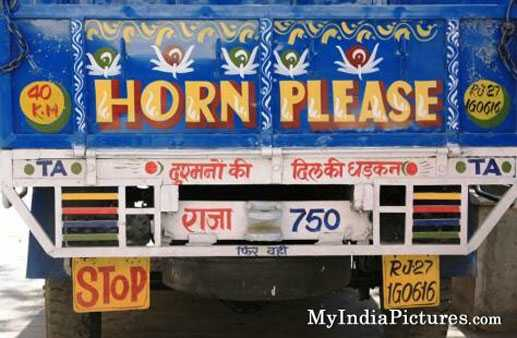doublelinenumberplate: (383, 255, 442, 311)
